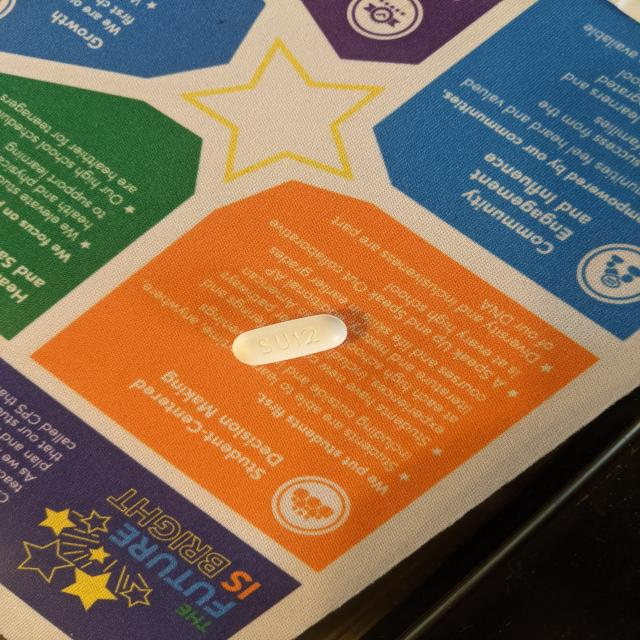non-organic waste: (230, 313, 348, 366)
